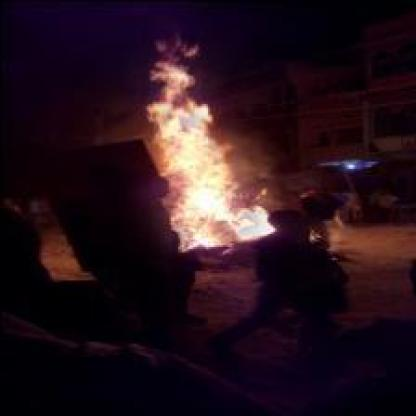Fire: (147, 33, 262, 260)
